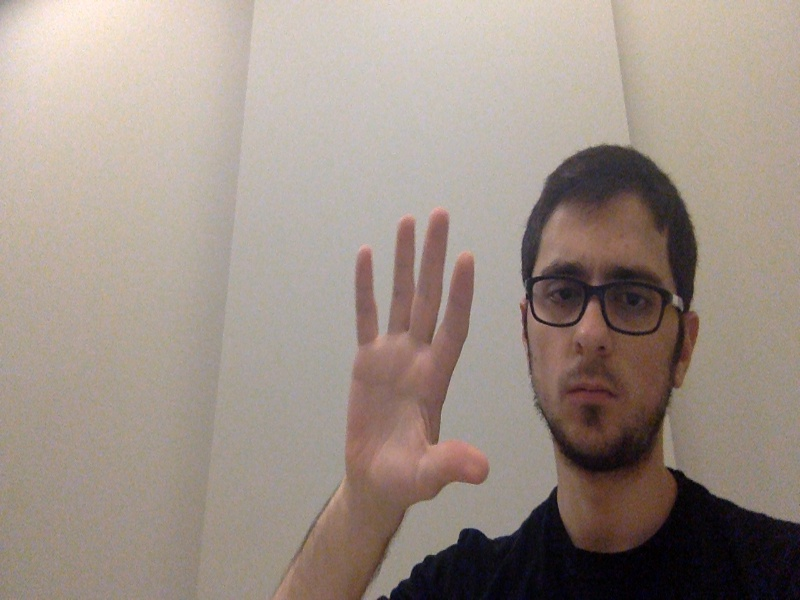5-hand: (339, 210, 496, 497)
